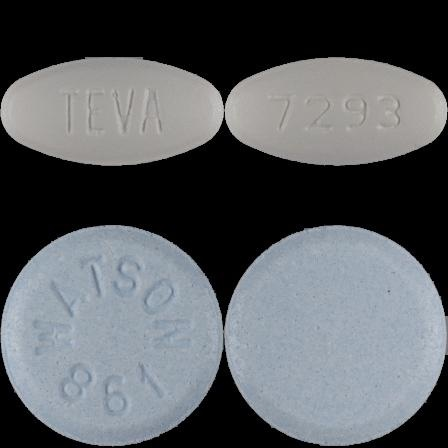63187-048: (0, 0, 224, 224)
